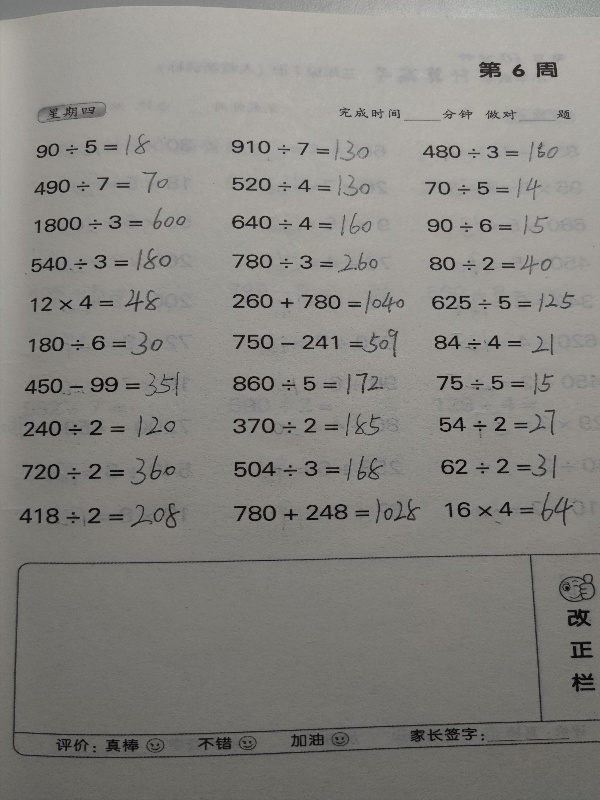equation: (233, 497, 428, 528), (232, 327, 408, 360), (229, 288, 408, 318), (441, 492, 582, 529), (21, 502, 189, 532), (20, 456, 186, 486), (225, 410, 393, 439), (31, 208, 189, 238), (228, 169, 378, 200), (27, 245, 181, 275), (228, 129, 377, 160), (227, 209, 375, 240), (230, 369, 392, 397), (29, 166, 172, 196), (25, 285, 168, 315), (23, 416, 180, 443), (232, 457, 393, 483), (431, 288, 580, 316), (425, 247, 559, 278), (228, 249, 381, 276), (437, 366, 562, 399), (433, 410, 570, 440), (430, 328, 561, 358), (420, 139, 563, 166), (22, 373, 189, 396), (437, 452, 565, 482), (422, 174, 546, 204), (28, 331, 171, 357), (32, 131, 153, 160), (424, 212, 552, 239)
